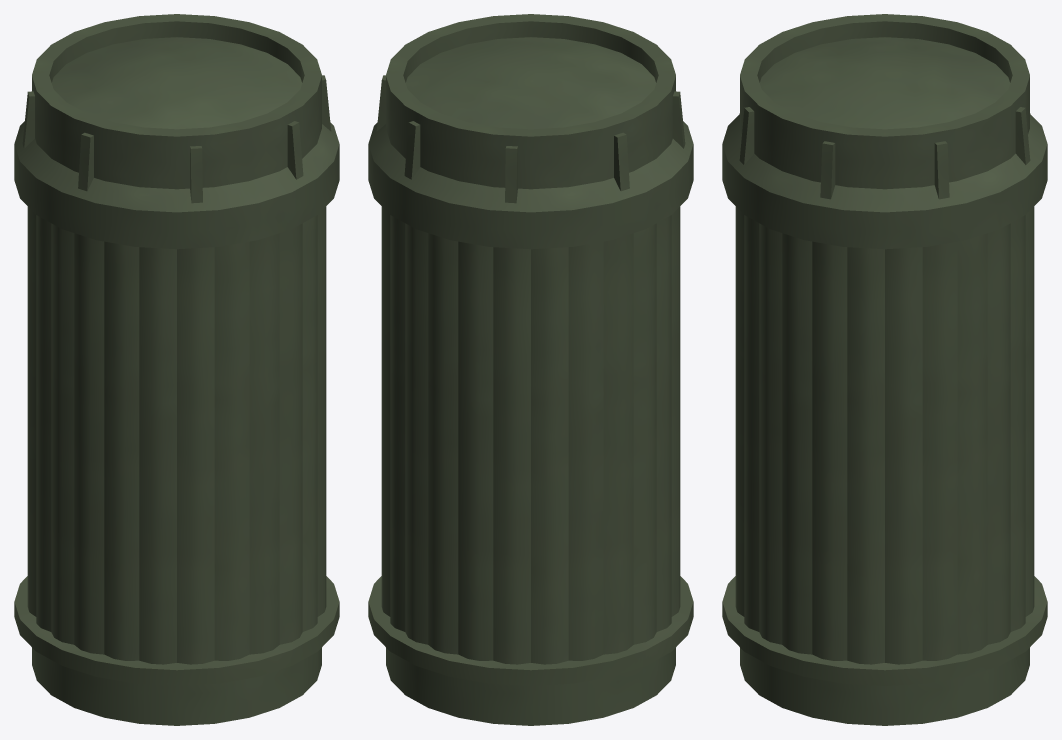
The model's file is voskhod airlock.obj.
3 renders of one model, left to right at view 1: azimuth 30°, elevation 25°; view 2: azimuth 150°, elevation 25°; view 3: azimuth 270°, elevation 25°, orthographic.
Parts seen in each view (by area): view 1: tube, door, base; view 2: tube, door, base; view 3: tube, door, base.
Boxes of the visible parts, bbox=[...] form: tube: bbox=[27, 206, 326, 664]; door: bbox=[14, 14, 339, 249]; base: bbox=[14, 576, 339, 725]; tube: bbox=[381, 206, 680, 664]; door: bbox=[368, 14, 693, 249]; base: bbox=[368, 576, 693, 725]; tube: bbox=[735, 206, 1034, 664]; door: bbox=[722, 14, 1047, 249]; base: bbox=[722, 576, 1047, 725].
Size of the model in its own units: 0.7 by 1.4 by 0.7.
